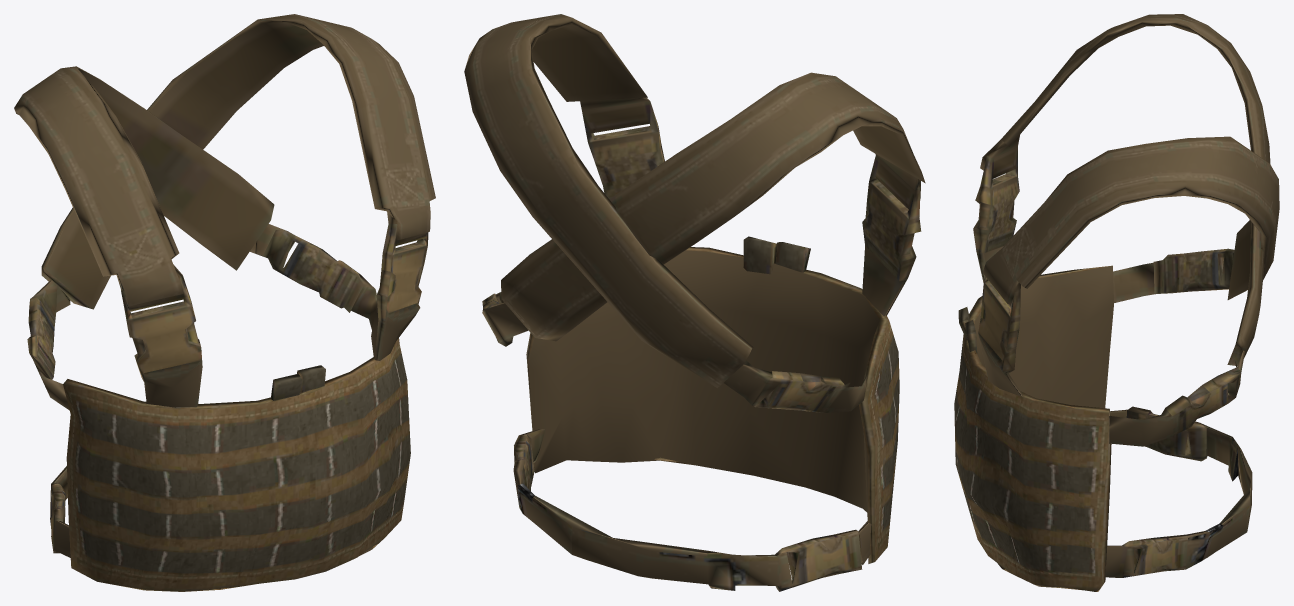
Rendered from vest6.fbx.
The picture shows the model from 3 angles, left to right: view 1: azimuth 30°, elevation 25°; view 2: azimuth 150°, elevation 25°; view 3: azimuth 270°, elevation 25°; orthographic projection. The views are drawn at different scales.
Parts seen in each view (by area): view 1: Vest_T0; view 2: Vest_T0; view 3: Vest_T0.
Boxes of the visible parts, <box> form: Vest_T0: <box>14,14,435,591</box>; Vest_T0: <box>464,14,925,591</box>; Vest_T0: <box>954,14,1279,591</box>.
Size of the model in its own units: 45.04 by 56.48 by 36.74.
